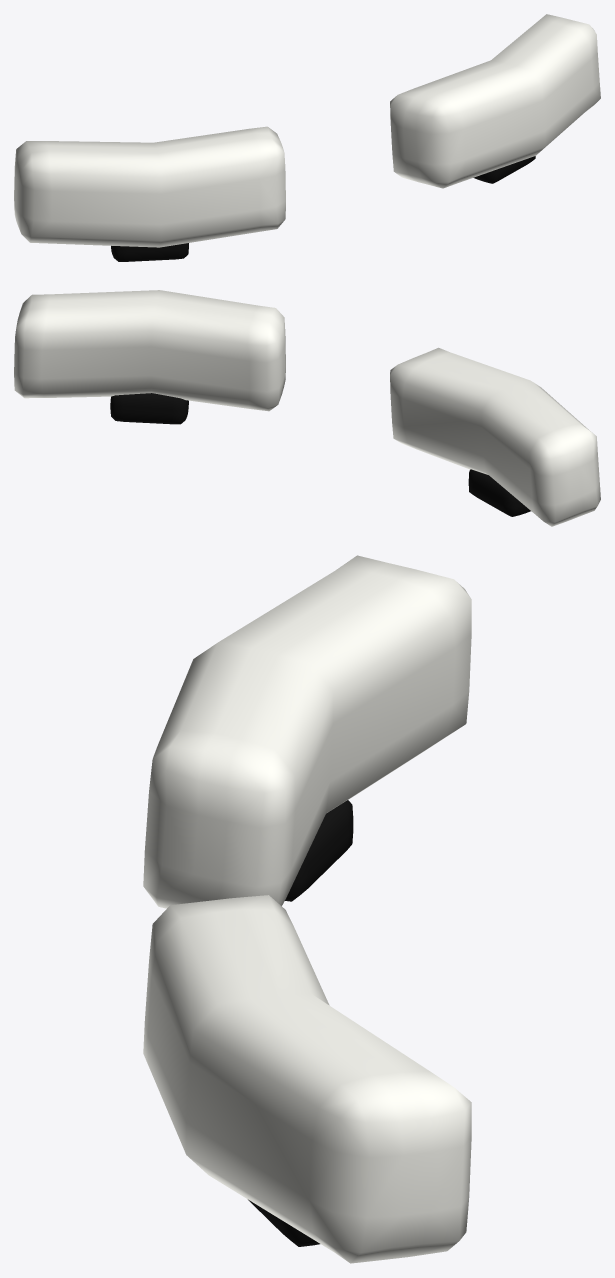
Rendered from Eyesandbrows.fbx.
3 renders of one model, top to bottom at view 1: azimuth 30°, elevation 25°; view 2: azimuth 150°, elevation 25°; view 3: azimuth 270°, elevation 25°, orthographic. The views are drawn at different scales.
Visible parts, largest first — view 1: Eyebrows, Eyes; view 2: Eyebrows, Eyes; view 3: Eyebrows, Eyes.
Part boxes in pixels (x1,y1,x2,y2): Eyebrows: (14,14,600,247); Eyes: (111,156,535,261); Eyebrows: (14,290,600,526); Eyes: (110,393,530,516); Eyebrows: (143,555,471,1263); Eyes: (248,800,353,1246).
Bounding box in the file's own units: 23.26 × 4.32 × 5.74.
